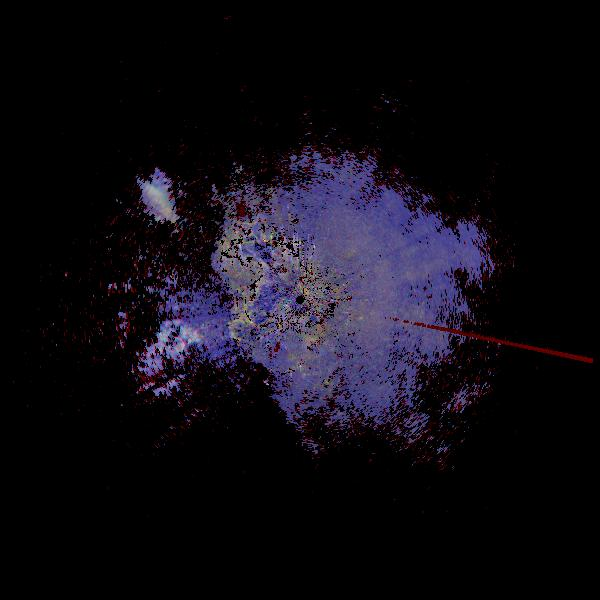roost: (275, 349, 323, 397)
